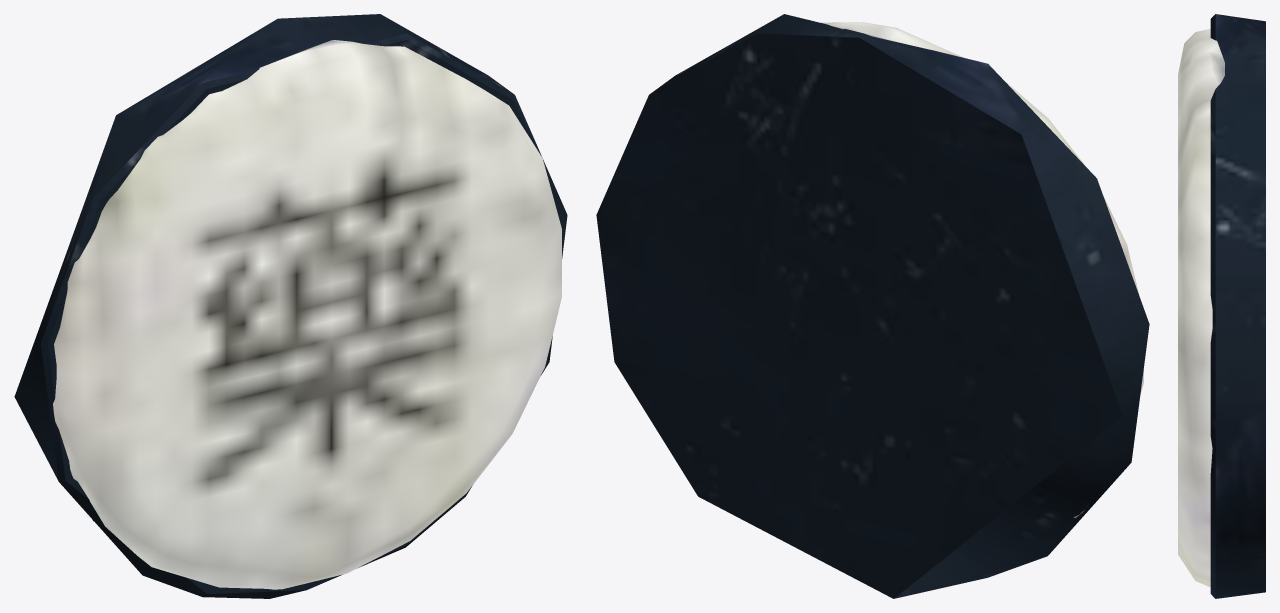
File: KB3D_NEC_BldgSM_C_NeonSignB.glb
3 views of the same model, side by side, from view 1: azimuth 30°, elevation 25°; view 2: azimuth 150°, elevation 25°; view 3: azimuth 270°, elevation 25° (orthographic). The views are drawn at different scales.
Visible parts, largest first — view 1: KB3D_NEC_BldgSM_C_NeonSignB; view 2: KB3D_NEC_BldgSM_C_NeonSignB; view 3: KB3D_NEC_BldgSM_C_NeonSignB.
Part boxes in pixels (left/top/right/bottom): KB3D_NEC_BldgSM_C_NeonSignB: left=14, top=14, right=567, bottom=598; KB3D_NEC_BldgSM_C_NeonSignB: left=596, top=14, right=1149, bottom=598; KB3D_NEC_BldgSM_C_NeonSignB: left=1178, top=14, right=1265, bottom=598.
Bounding box in the file's own units: 0.9588 × 0.9616 × 0.1454.
Materials: 2 (2 with a texture image).
